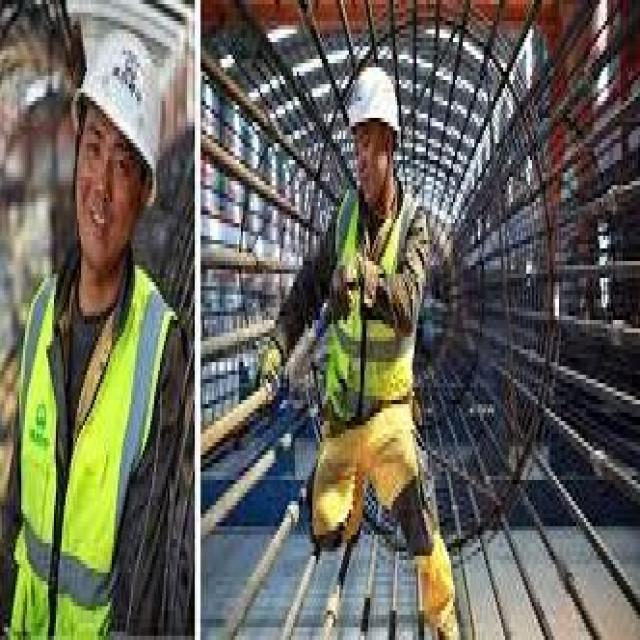reflective_jacket: (9, 265, 177, 639), (316, 177, 428, 455)
safety_helmet: (73, 25, 165, 181), (343, 58, 404, 143)
